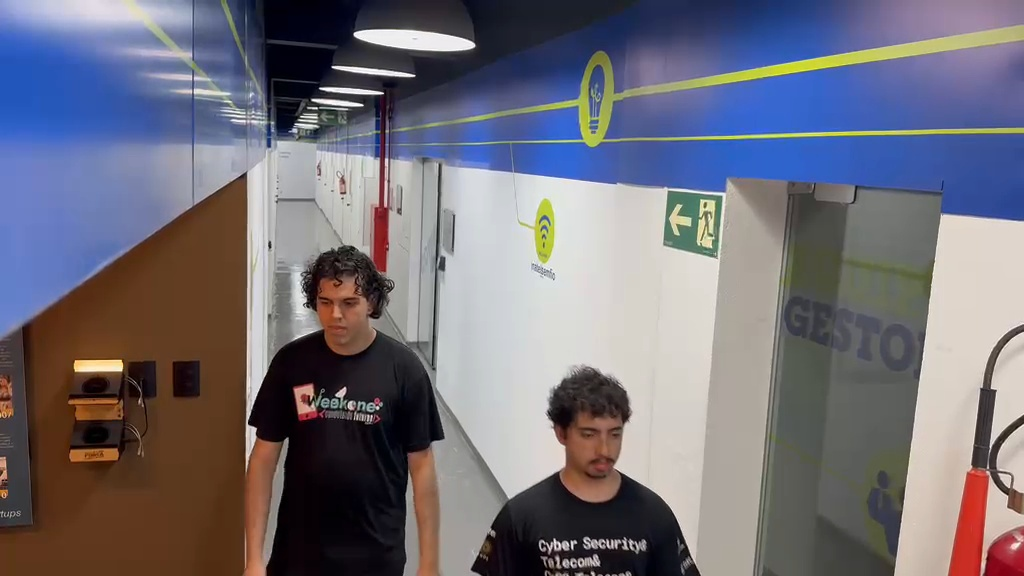person: (246, 244, 444, 573), (471, 365, 702, 573)
